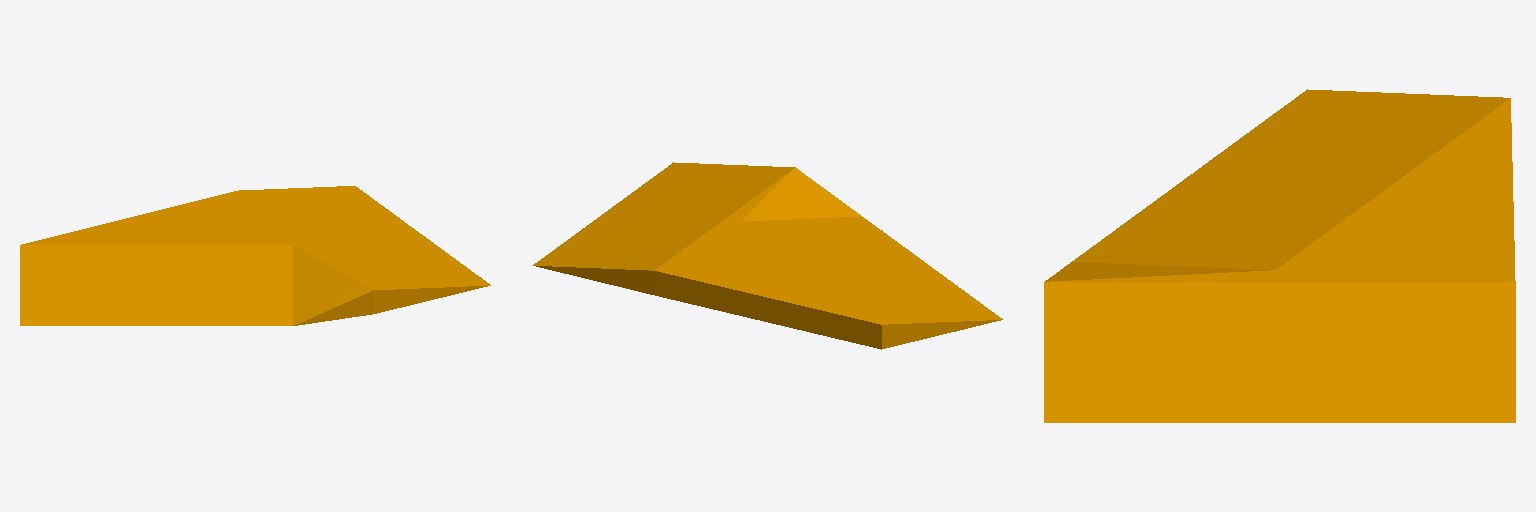
URDF robot description (block2_11_11):
<?xml version="1.0" ?>
<robot name="block2_11_11">
  <link name="block2_11_11__link_5">
    <inertial>
      <mass value="1"/>
      <origin rpy="0      0     -1.5708" xyz="0 0 0"/>
      <inertia ixx="0.166667" ixy="0" ixz="0" iyy="0.166667" iyz="0" izz="0.166667"/>
    </inertial>
    <collision name="block2_11_11__collision">
      <origin rpy="0      0     -1.5708" xyz="0 0 0"/>
      <geometry>
        <mesh filename="package://block2_11_11/block2_11_11.stl" scale="1 1 1"/>
      </geometry>
    </collision>
    <visual name="block2_11_11__visual">
      <origin rpy="0      0     -1.5708" xyz="0 0 0"/>
      <geometry>
        <mesh filename="package://block2_11_11/block2_11_11.stl" scale="1 1 1"/>
      </geometry>
    </visual>
  </link>
</robot>

--- Facts derived from the render (not from the file) ---
The picture shows the robot from 3 angles, left to right: view 1: azimuth 30°, elevation 25°; view 2: azimuth 150°, elevation 25°; view 3: azimuth 270°, elevation 25°; orthographic projection.
Robot: block2_11_11 — 1 links, 0 joints (none); root link block2_11_11__link_5; default pose: all joints at 0.
Links seen in each view (by area): view 1: block2_11_11__link_5; view 2: block2_11_11__link_5; view 3: block2_11_11__link_5.
Link boxes in pixels (<box>): block2_11_11__link_5: <box>20,186,490,325</box>; block2_11_11__link_5: <box>533,162,1002,349</box>; block2_11_11__link_5: <box>1044,89,1515,422</box>.
Size in the robot's own frame: 5.03 by 3.01 by 0.291 metres.
1 mesh visuals loaded from 1 distinct referenced files (1 binary STL).